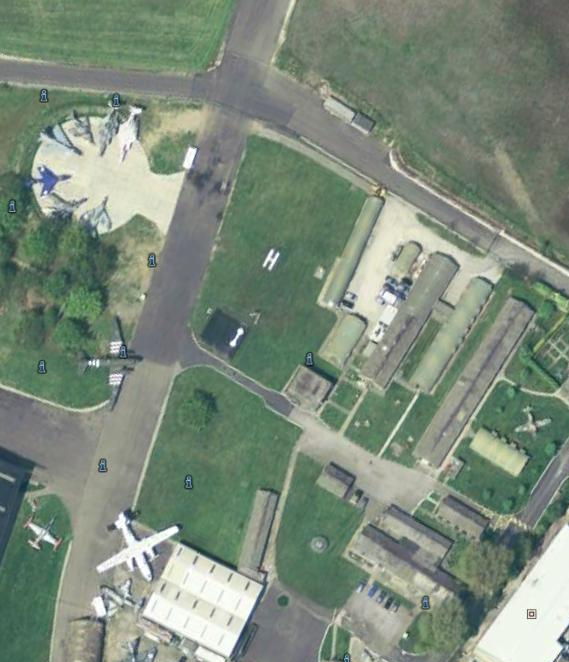heliport: (259, 245, 282, 274)
